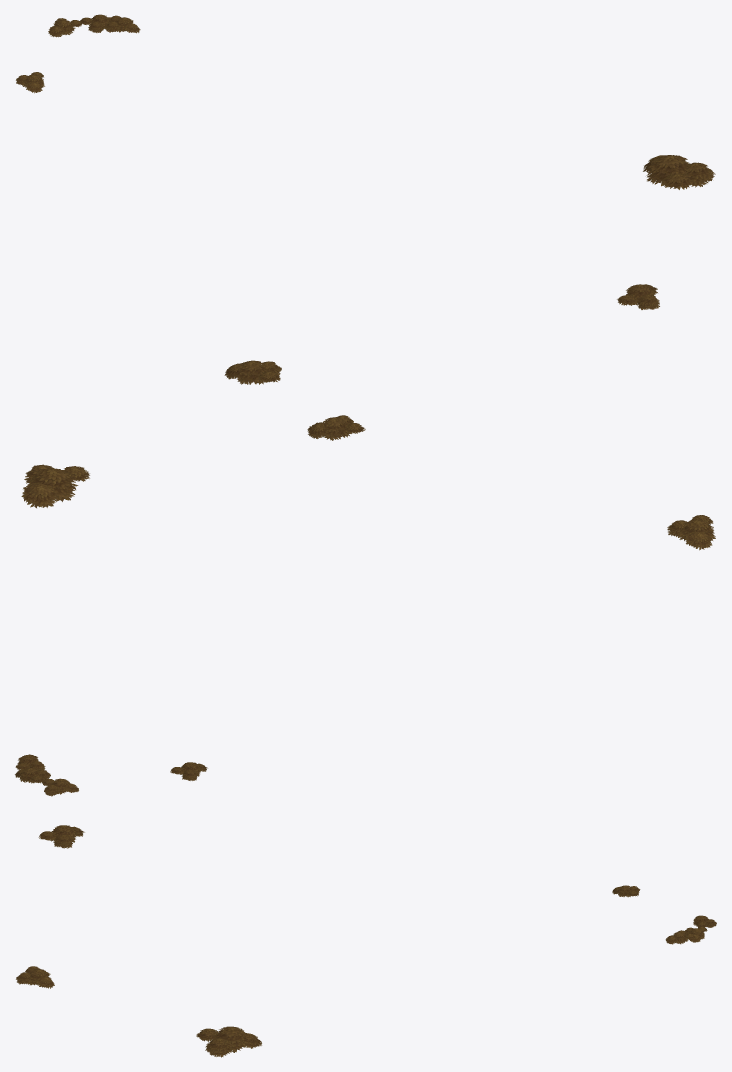
The model's file is yanshi2_zhibei_1.fbx.
3 views of the same model, one above another, from view 1: azimuth 30°, elevation 25°; view 2: azimuth 150°, elevation 25°; view 3: azimuth 270°, elevation 25° (orthographic). The views are drawn at different scales.
Visible parts, largest first — view 1: yanshi2_zhibei_1; view 2: yanshi2_zhibei_1; view 3: yanshi2_zhibei_1.
Boxes of the visible parts, x1,y1,x2,y2 form: yanshi2_zhibei_1: [16, 14, 715, 384]; yanshi2_zhibei_1: [15, 415, 715, 796]; yanshi2_zhibei_1: [16, 825, 716, 1057].
Bounding box in the file's own units: 6650 × 262 × 8861.
